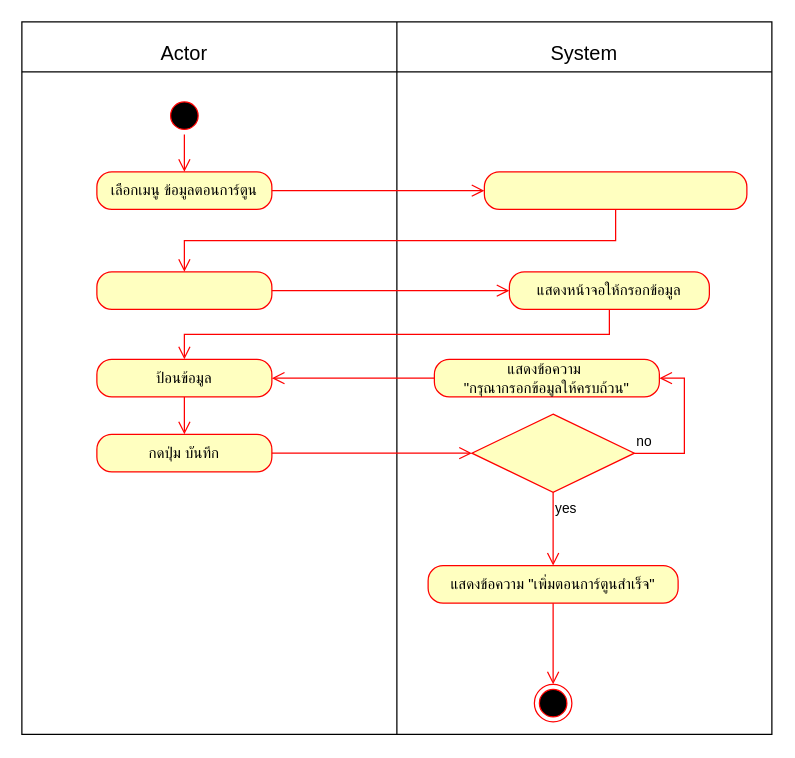
This 795x758 diagram has some shape labels left out. The shapes that lost their labels are listed below. From the top down, each one's box as (x1, y1, x2, y2) in pixels, then its label:
(483, 171, 747, 209): แสดงหน้าจอ ข้อมูลตอนการ์ตูนทั้งหมด
(96, 271, 272, 309): เลือก เพิ่ม ข้อมูลตอนการ์ตูน
(471, 413, 634, 492): ตรวจสอบความถูกต้อง
